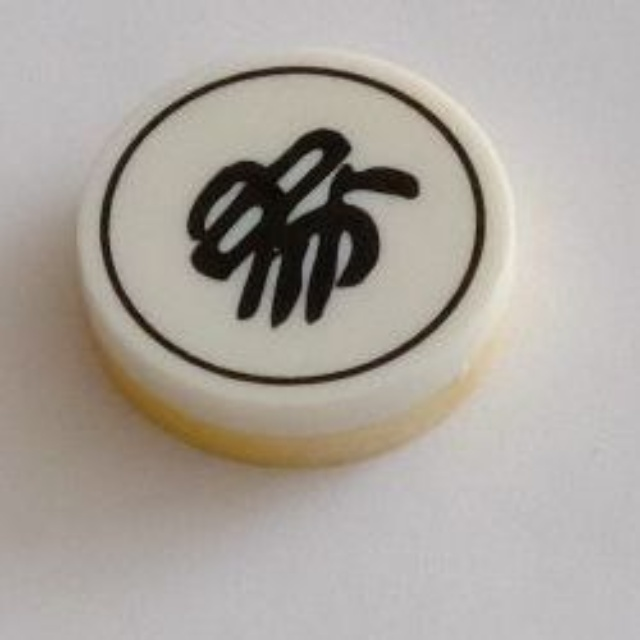black_bo: (61, 37, 530, 477)
